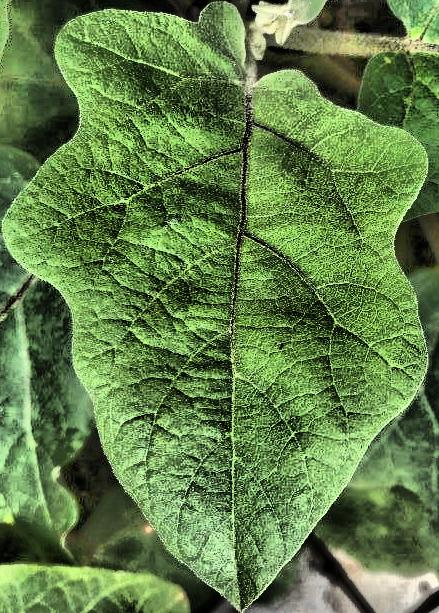HEALTHY: (0, 1, 439, 613)
